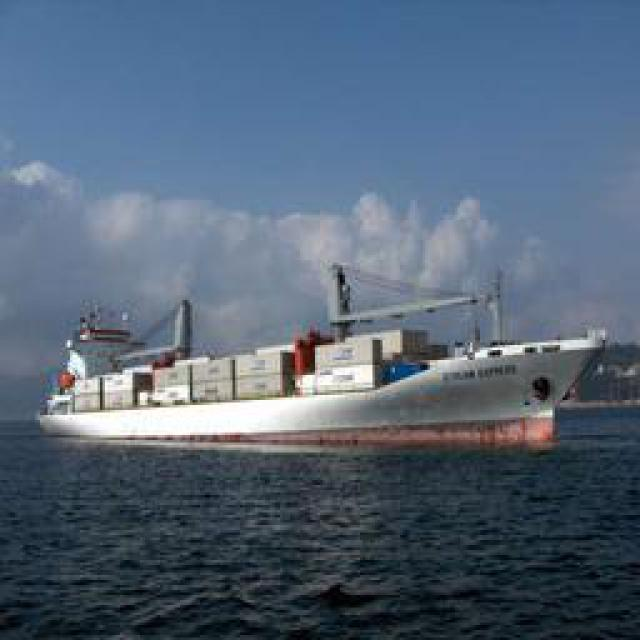Ship: (57, 321, 600, 449)
